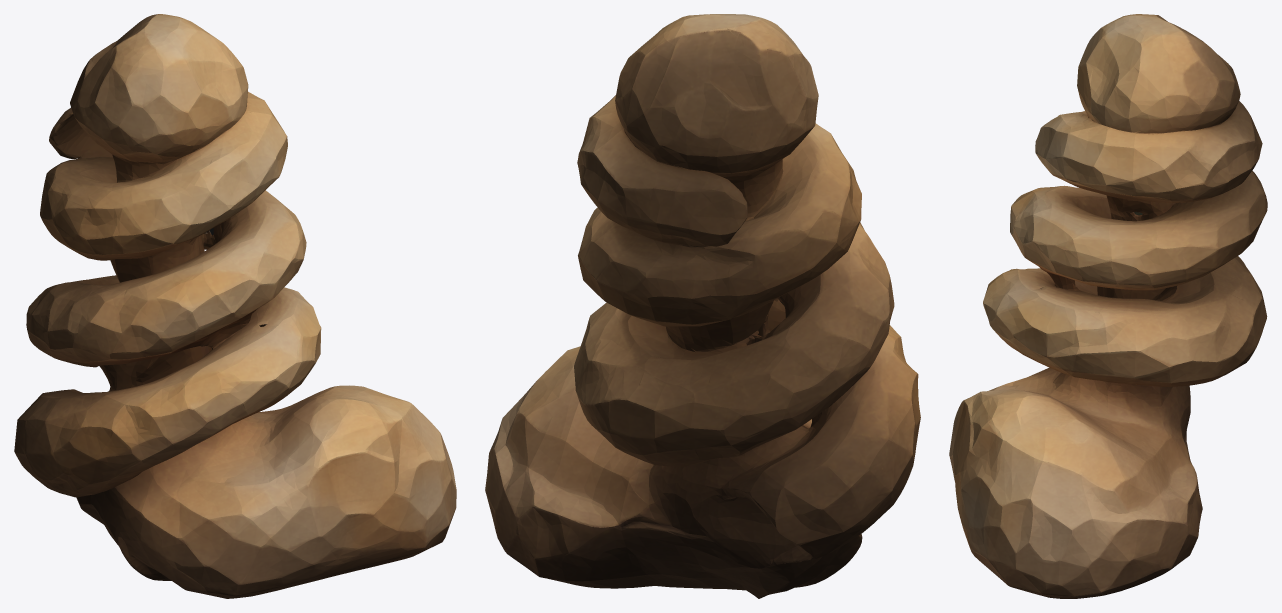
3 views of the same model, side by side, from view 1: azimuth 30°, elevation 25°; view 2: azimuth 150°, elevation 25°; view 3: azimuth 270°, elevation 25° (orthographic). The views are drawn at different scales.
Visible parts, largest first — view 1: world; view 2: world; view 3: world.
Boxes of the visible parts, <box> form: world: <box>14,14,456,598</box>; world: <box>485,14,920,598</box>; world: <box>949,14,1267,598</box>.
Bounding box in the file's own units: 0.7439 × 0.9988 × 0.5881.
1 material, 1 textured.
